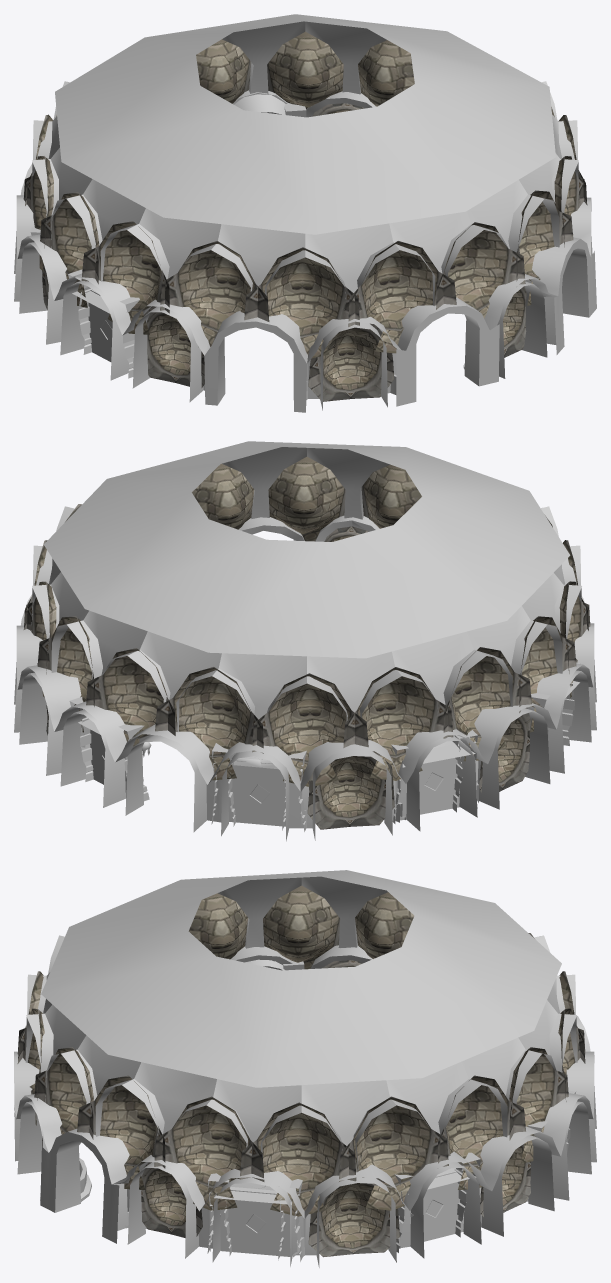
File: Lv_6_dating_1a.FBX
3 views of the same model, one above another, from view 1: azimuth 30°, elevation 25°; view 2: azimuth 150°, elevation 25°; view 3: azimuth 270°, elevation 25° (orthographic).
Visible parts, largest first — view 1: DN_tushuguan_dating01a, DN_tushuguan_dating02a; view 2: DN_tushuguan_dating01a, DN_tushuguan_dating02a; view 3: DN_tushuguan_dating01a, DN_tushuguan_dating02a.
Boxes of the visible parts, <box> form: DN_tushuguan_dating01a: <box>14,14,596,412</box>; DN_tushuguan_dating02a: <box>23,31,587,401</box>; DN_tushuguan_dating01a: <box>14,441,596,841</box>; DN_tushuguan_dating02a: <box>23,456,590,829</box>; DN_tushuguan_dating01a: <box>14,870,596,1267</box>; DN_tushuguan_dating02a: <box>17,885,585,1257</box>.
Size of the model in its own units: 5488 by 2326 by 5487.
